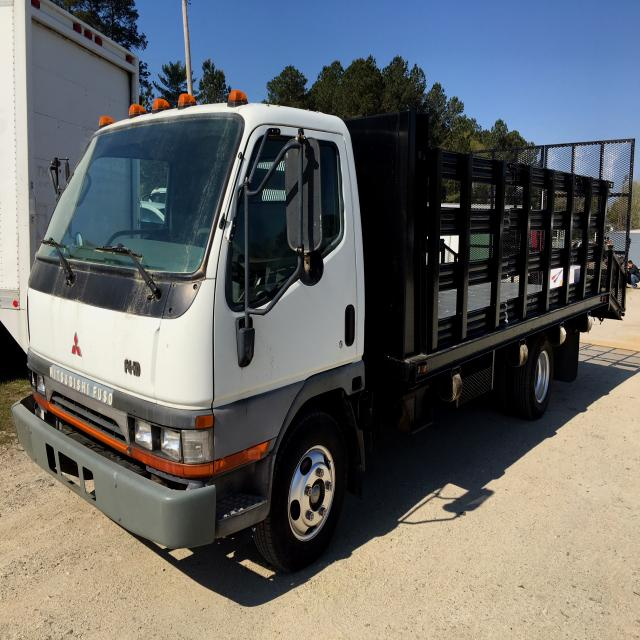truck: (14, 84, 635, 575)
